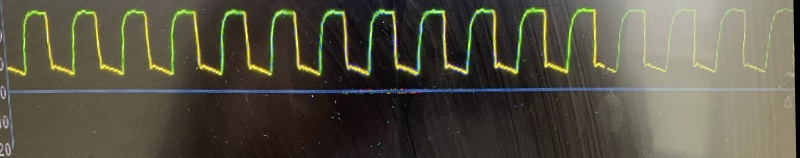normal_pressure: (0, 0, 778, 84)
